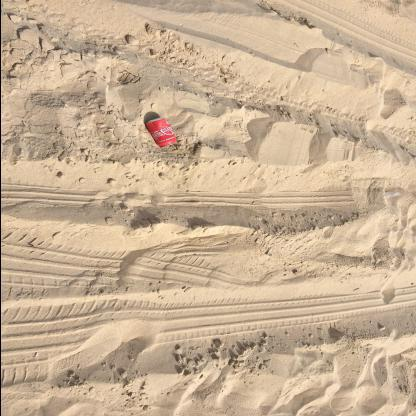metal: (146, 119, 177, 149)
